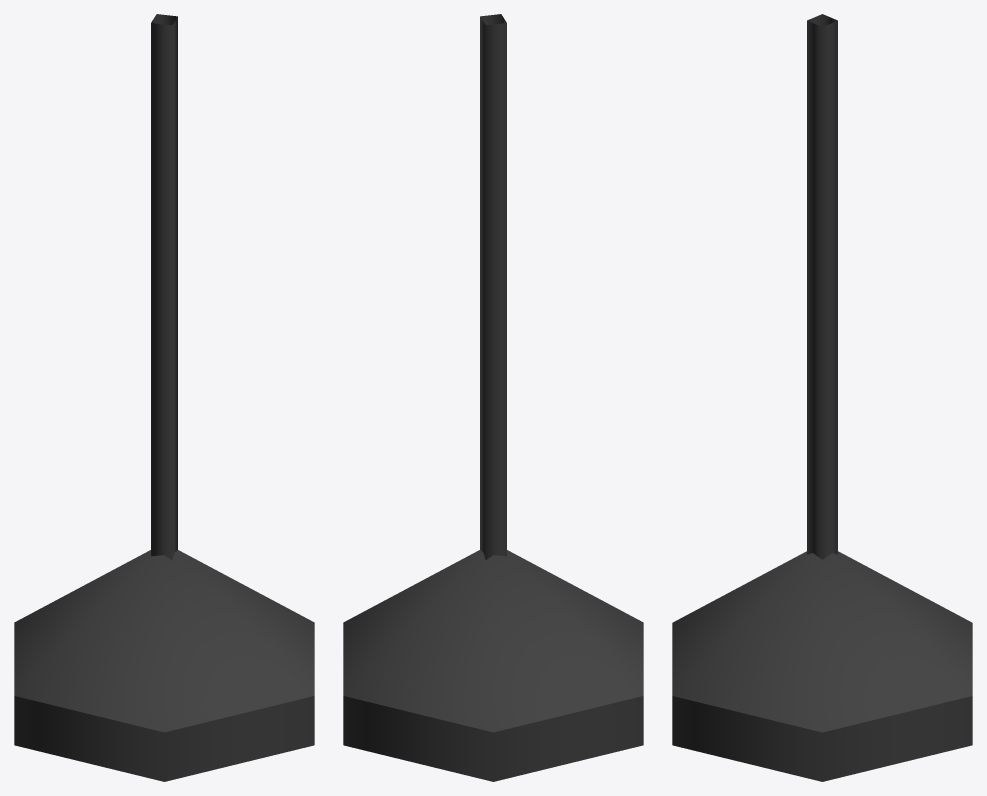
The model's file is SurroundingEnvironment_CeilingLamp.fbx.
3 renders of one model, left to right at view 1: azimuth 30°, elevation 25°; view 2: azimuth 150°, elevation 25°; view 3: azimuth 270°, elevation 25°, orthographic.
Visible parts, largest first — view 1: CeilingLamp; view 2: CeilingLamp; view 3: CeilingLamp.
Part boxes in pixels (x1,y1,x2,y2): CeilingLamp: [14, 14, 314, 781]; CeilingLamp: [343, 14, 643, 781]; CeilingLamp: [672, 14, 972, 781].
Size of the model in its own units: 36.83 by 80.71 by 31.9.
